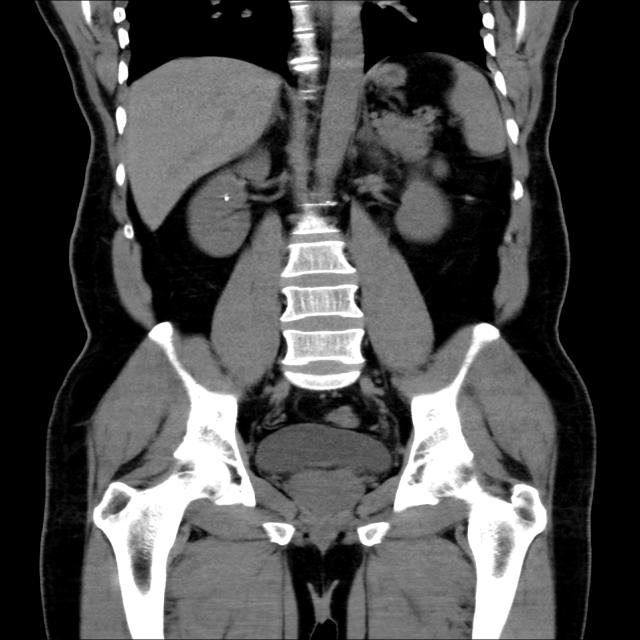kidneystone: (223, 194, 231, 201)
